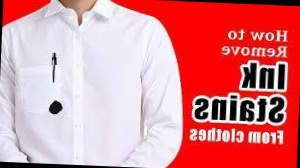ink: (49, 101, 63, 114)
